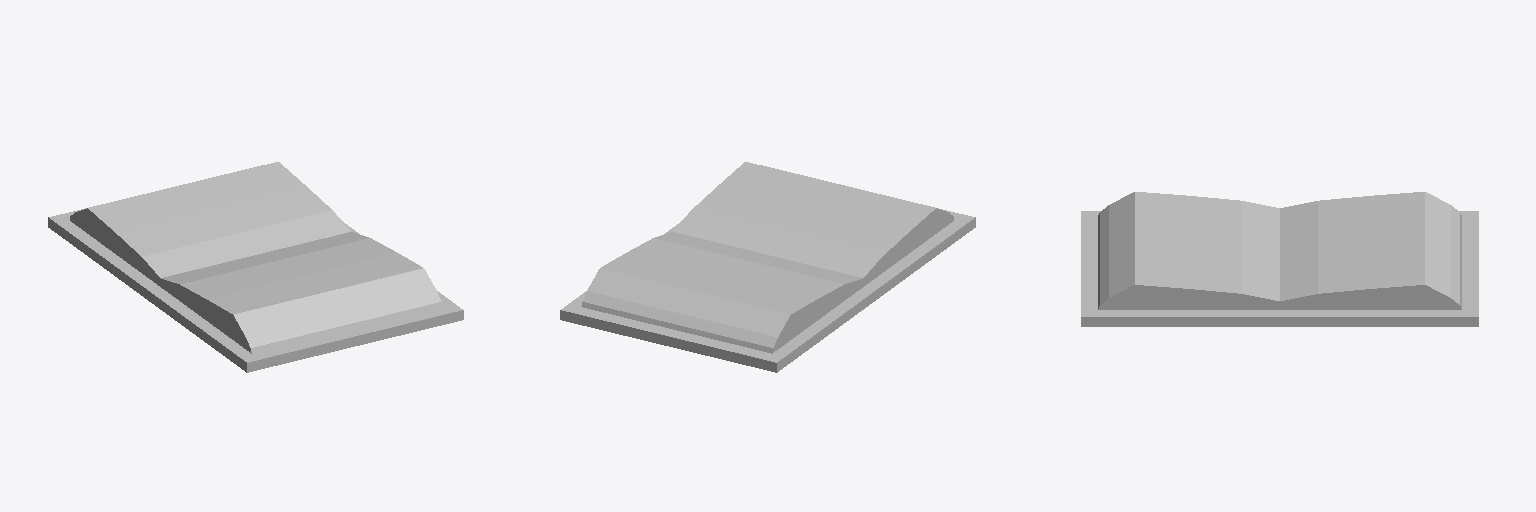
The model's file is book.obj.
3 views of the same model, side by side, from view 1: azimuth 30°, elevation 25°; view 2: azimuth 150°, elevation 25°; view 3: azimuth 270°, elevation 25° (orthographic).
Visible parts, largest first — view 1: pCube2, pCube1; view 2: pCube2, pCube1; view 3: pCube2, pCube1.
Part boxes in pixels (x1,y1,x2,y2): pCube2: (70, 162, 442, 353); pCube1: (48, 165, 463, 372); pCube2: (581, 162, 953, 353); pCube1: (560, 165, 975, 372); pCube2: (1098, 192, 1461, 309); pCube1: (1081, 211, 1478, 326).
Size of the model in its own units: 1.3 by 0.2045 by 2.07.